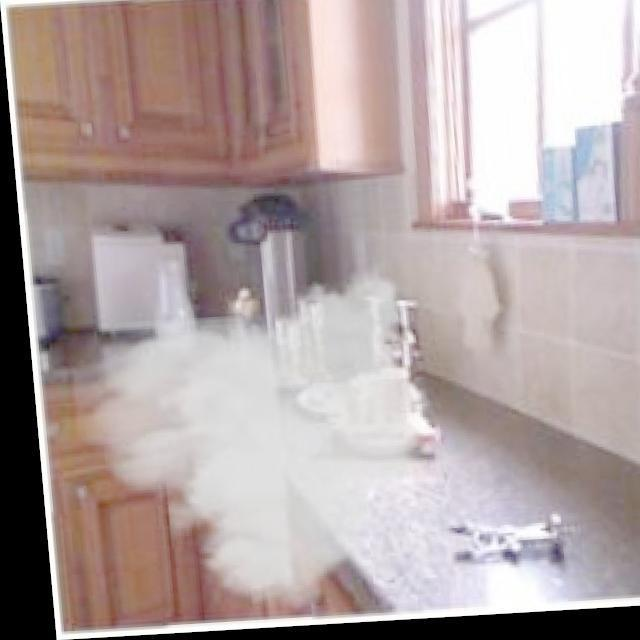Smoke: (58, 268, 440, 616)
